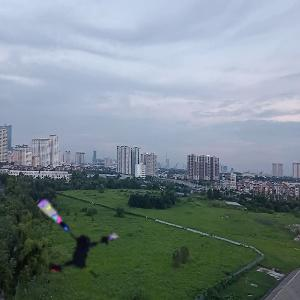drone: (15, 195, 120, 300)
